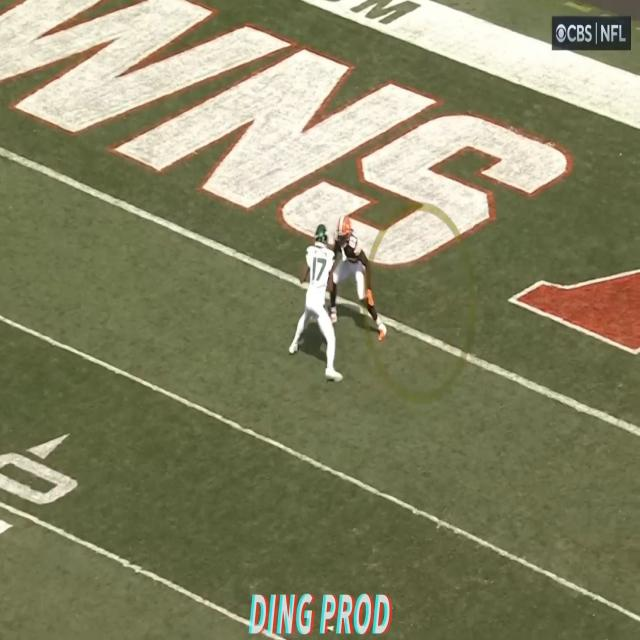players: (290, 221, 347, 388), (330, 216, 386, 346)
